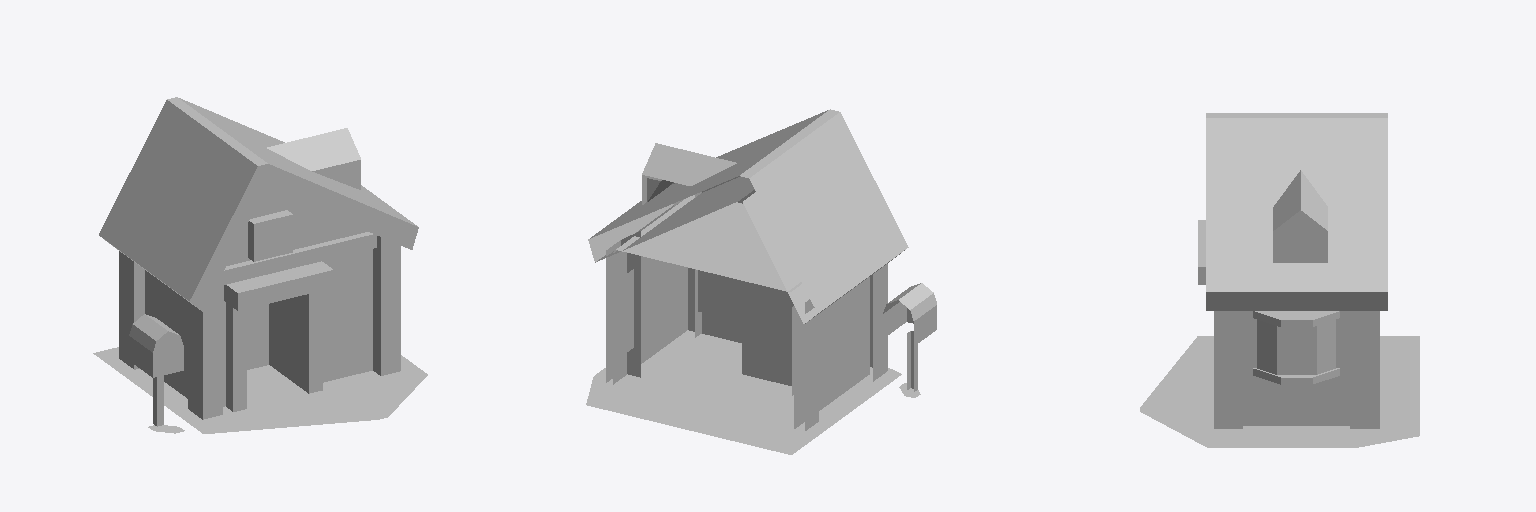
Rendered from Nuvema Town House 2.obj.
3 renders of one model, left to right at view 1: azimuth 30°, elevation 25°; view 2: azimuth 150°, elevation 25°; view 3: azimuth 270°, elevation 25°, orthographic.
Parts seen in each view (by area): view 1: polygon4, polygon6, polygon5, polygon3, polygon2; view 2: polygon4, polygon6, polygon3, polygon5, polygon1, polygon2; view 3: polygon4, polygon6, polygon3, polygon5.
Part boxes in pixels (x1,y1,x2,y2): polygon4: (99,97,418,311); polygon6: (119,210,400,419); polygon5: (145,189,372,411); polygon3: (93,347,427,433); polygon2: (129,314,183,426); polygon4: (588,109,908,323); polygon6: (606,192,887,430); polygon3: (586,330,920,454); polygon5: (613,176,869,428); polygon1: (623,258,793,395); polygon2: (883,283,936,391); polygon4: (1198,113,1387,310); polygon6: (1214,311,1379,428); polygon3: (1140,336,1419,447); polygon5: (1243,311,1349,425).
Bounding box in the file's own units: 79.5 × 70 × 70.5.